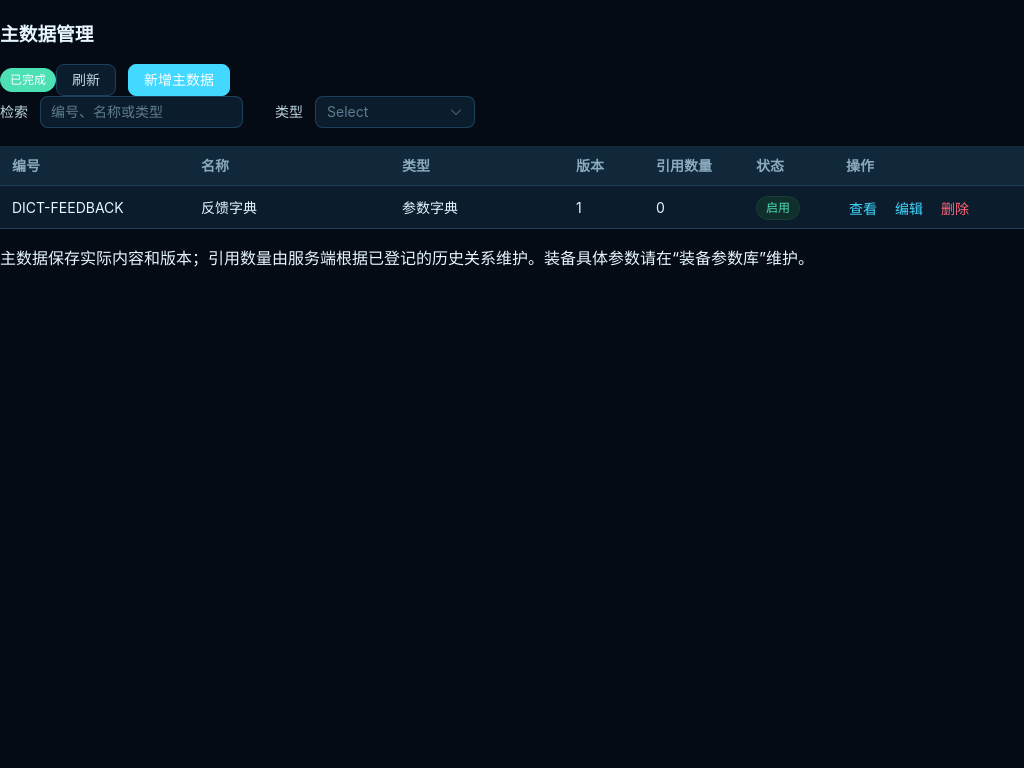
Test: P7 系统管理面板 › 主数据保存与删除通过真实 Store 反馈，成功=false
Click the button "编辑" at {"x": 909, "y": 209}, box [892,199,926,219]
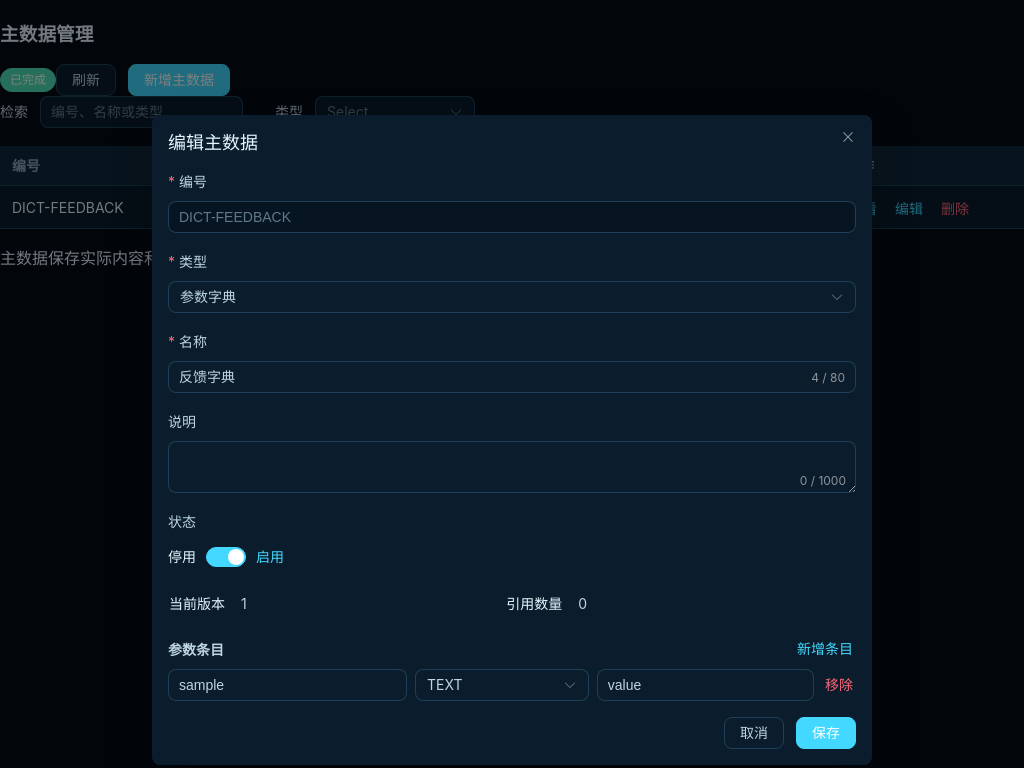
Expected: the button "保存" is shown
Click the button "保存" at {"x": 826, "y": 733}, box [796,717,856,749]
(page scrolled)
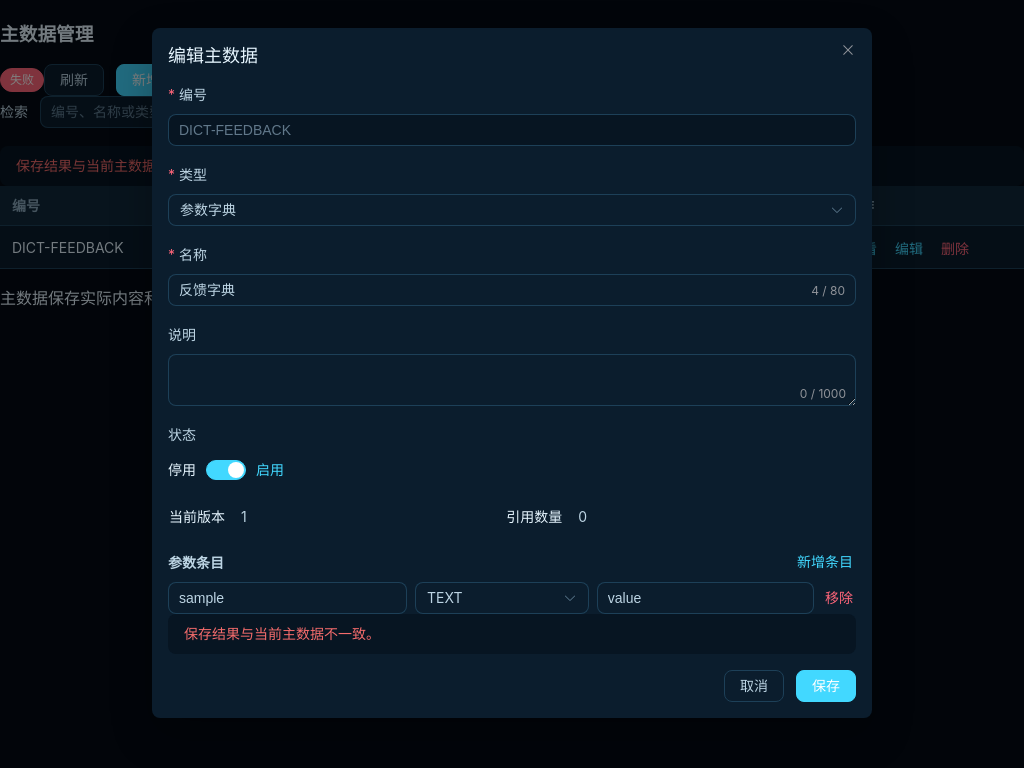
Expected: the button "取消" is shown
Expected: the element with test id "master-feedback" reads "保存结果与当前主数据不一致。", [16,157,212,174]
Click the button "取消" at {"x": 754, "y": 686}, box [724,670,784,702]
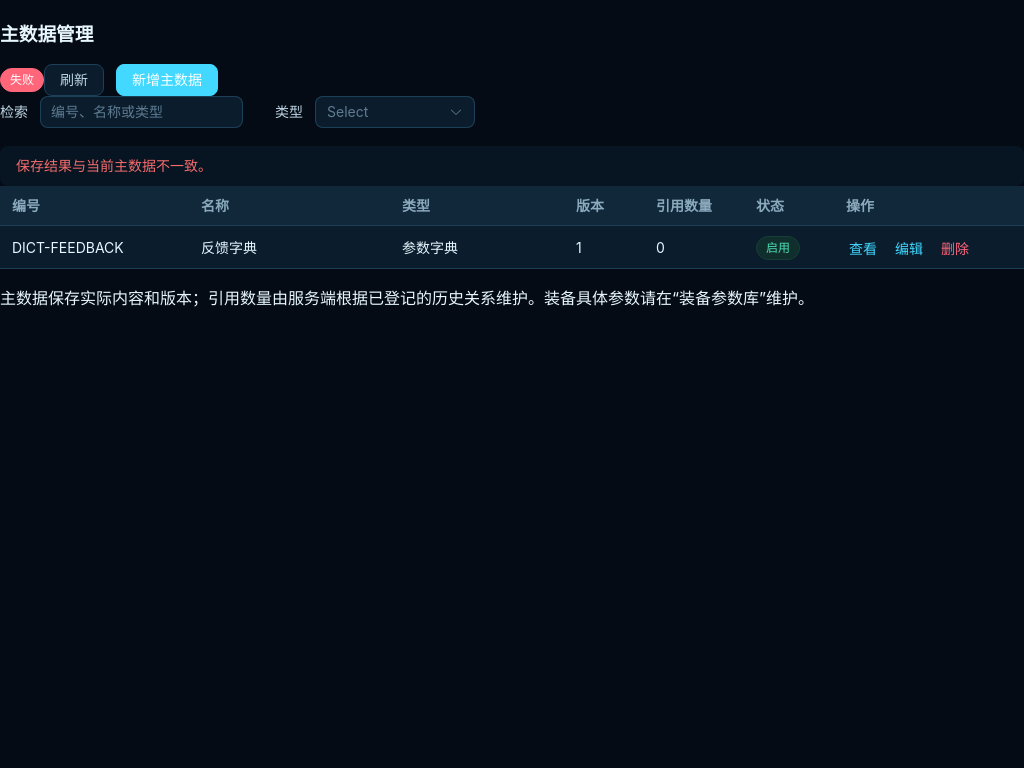
Click the button "删除" at {"x": 955, "y": 249}, box [938,239,972,259]
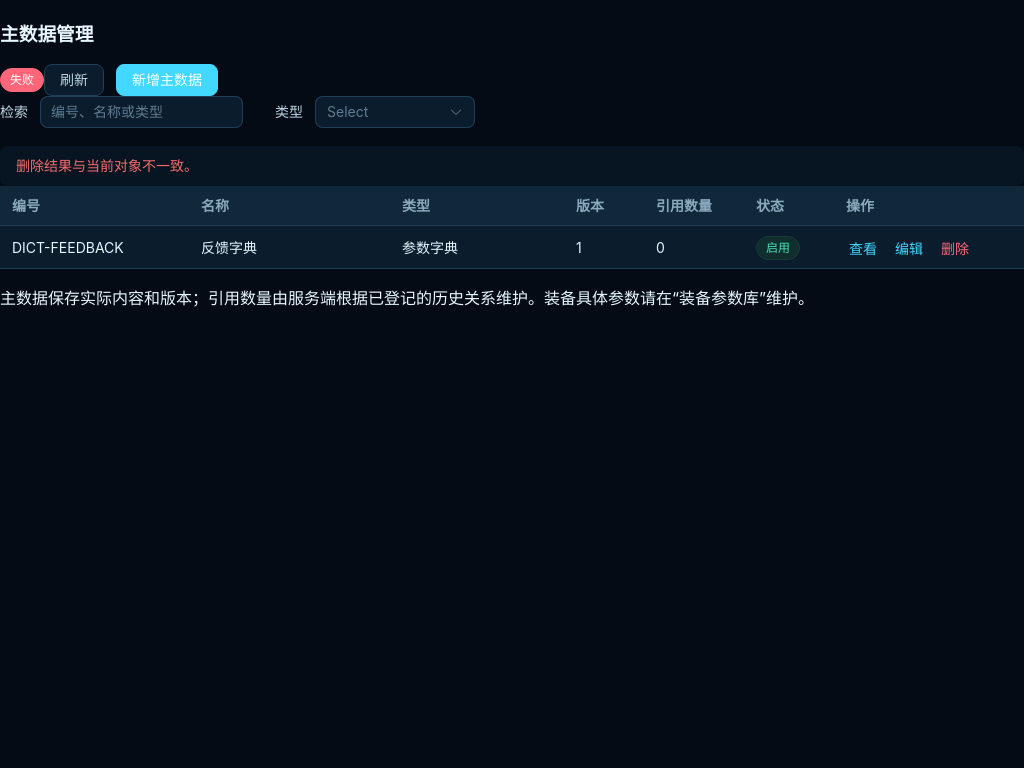
Expected: the element with test id "master-feedback" reads "删除结果与当前对象不一致。", [16,157,198,174]
Click the button "刷新" at {"x": 74, "y": 80}, box [44,64,104,96]
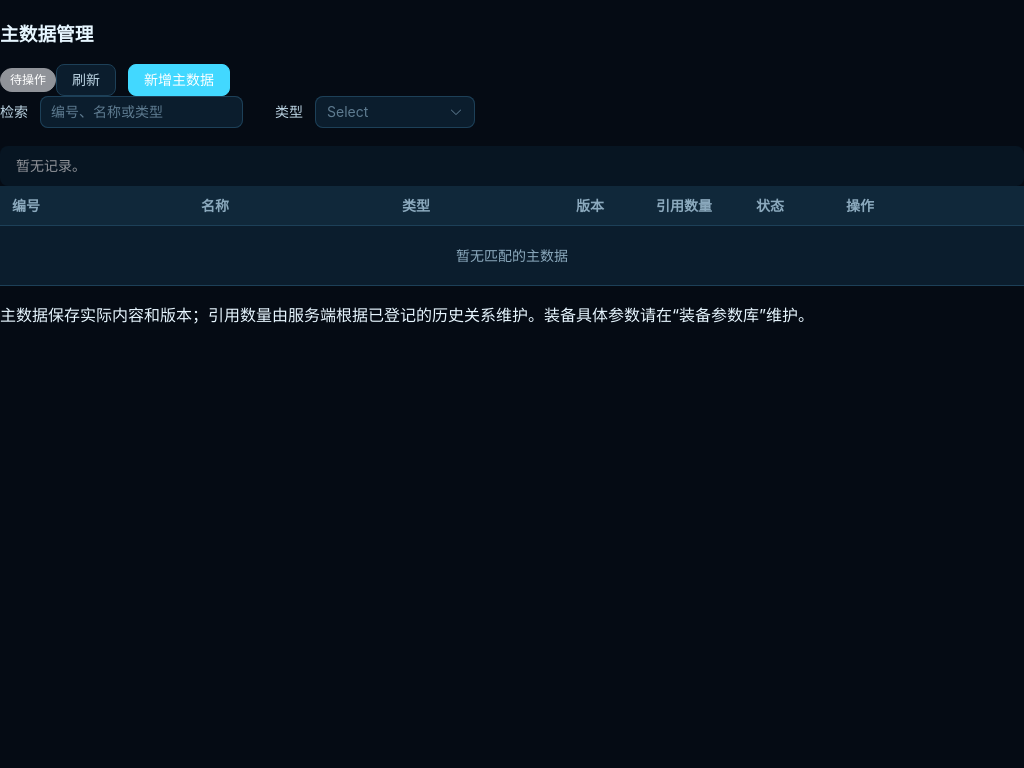
Expected: the element with test id "master-feedback" reads "暂无记录。", [16,157,86,174]
